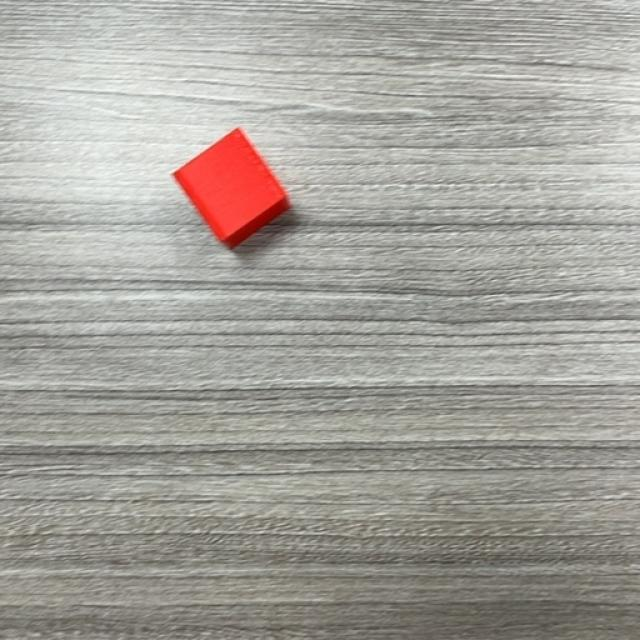Rojo: (171, 129, 291, 250)
